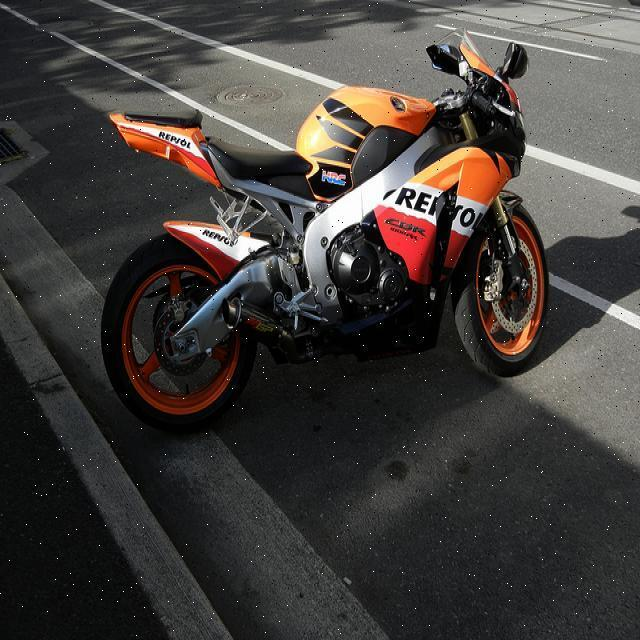motorcycle: (97, 19, 559, 436)
